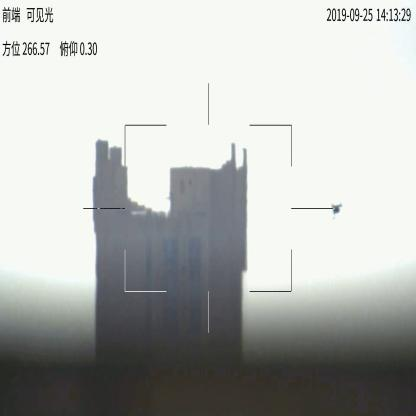uav: (330, 204, 345, 220)
